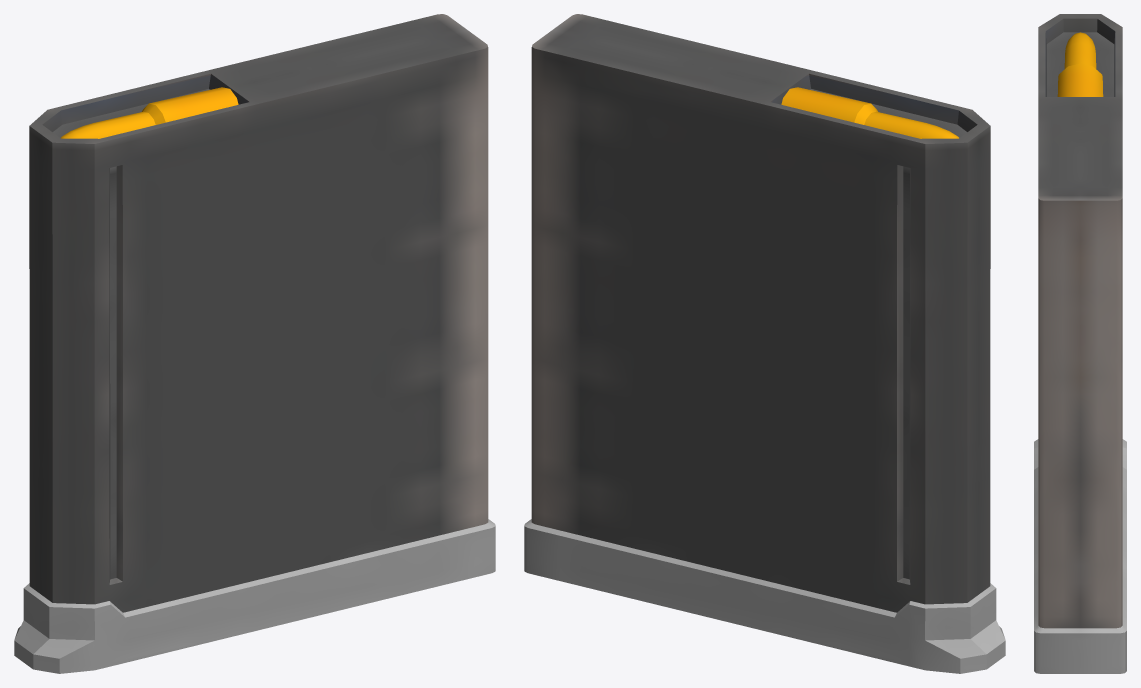
The model's file is gun_sniper_ammo.glb.
3 views of the same model, side by side, from view 1: azimuth 30°, elevation 25°; view 2: azimuth 150°, elevation 25°; view 3: azimuth 270°, elevation 25° (orthographic). The views are drawn at different scales.
Parts seen in each view (by area): view 1: Gun_Sniper_Ammo; view 2: Gun_Sniper_Ammo; view 3: Gun_Sniper_Ammo.
Boxes of the visible parts, x1,y1,x2,y2 form: Gun_Sniper_Ammo: (14,14,495,673); Gun_Sniper_Ammo: (524,14,1005,673); Gun_Sniper_Ammo: (1034,14,1126,673).
Size of the model in its own units: 0.1384 by 0.1546 by 0.0275.
1 material, 1 textured.
